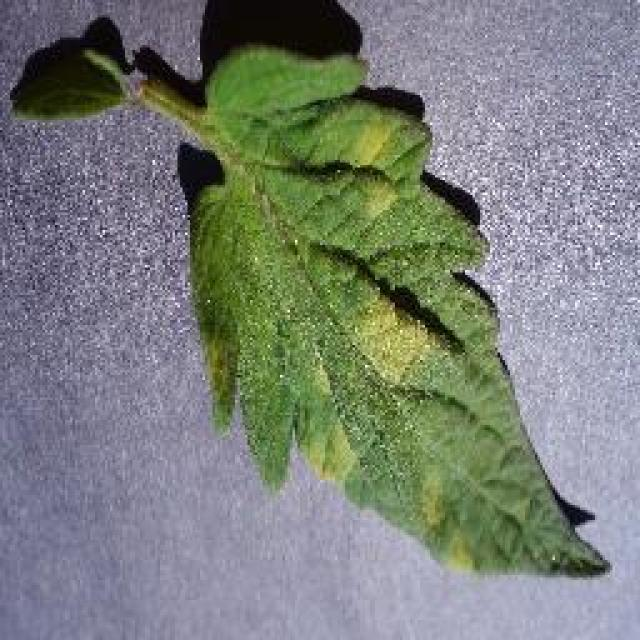Tomato___Leaf_Mold: (12, 0, 608, 570)
